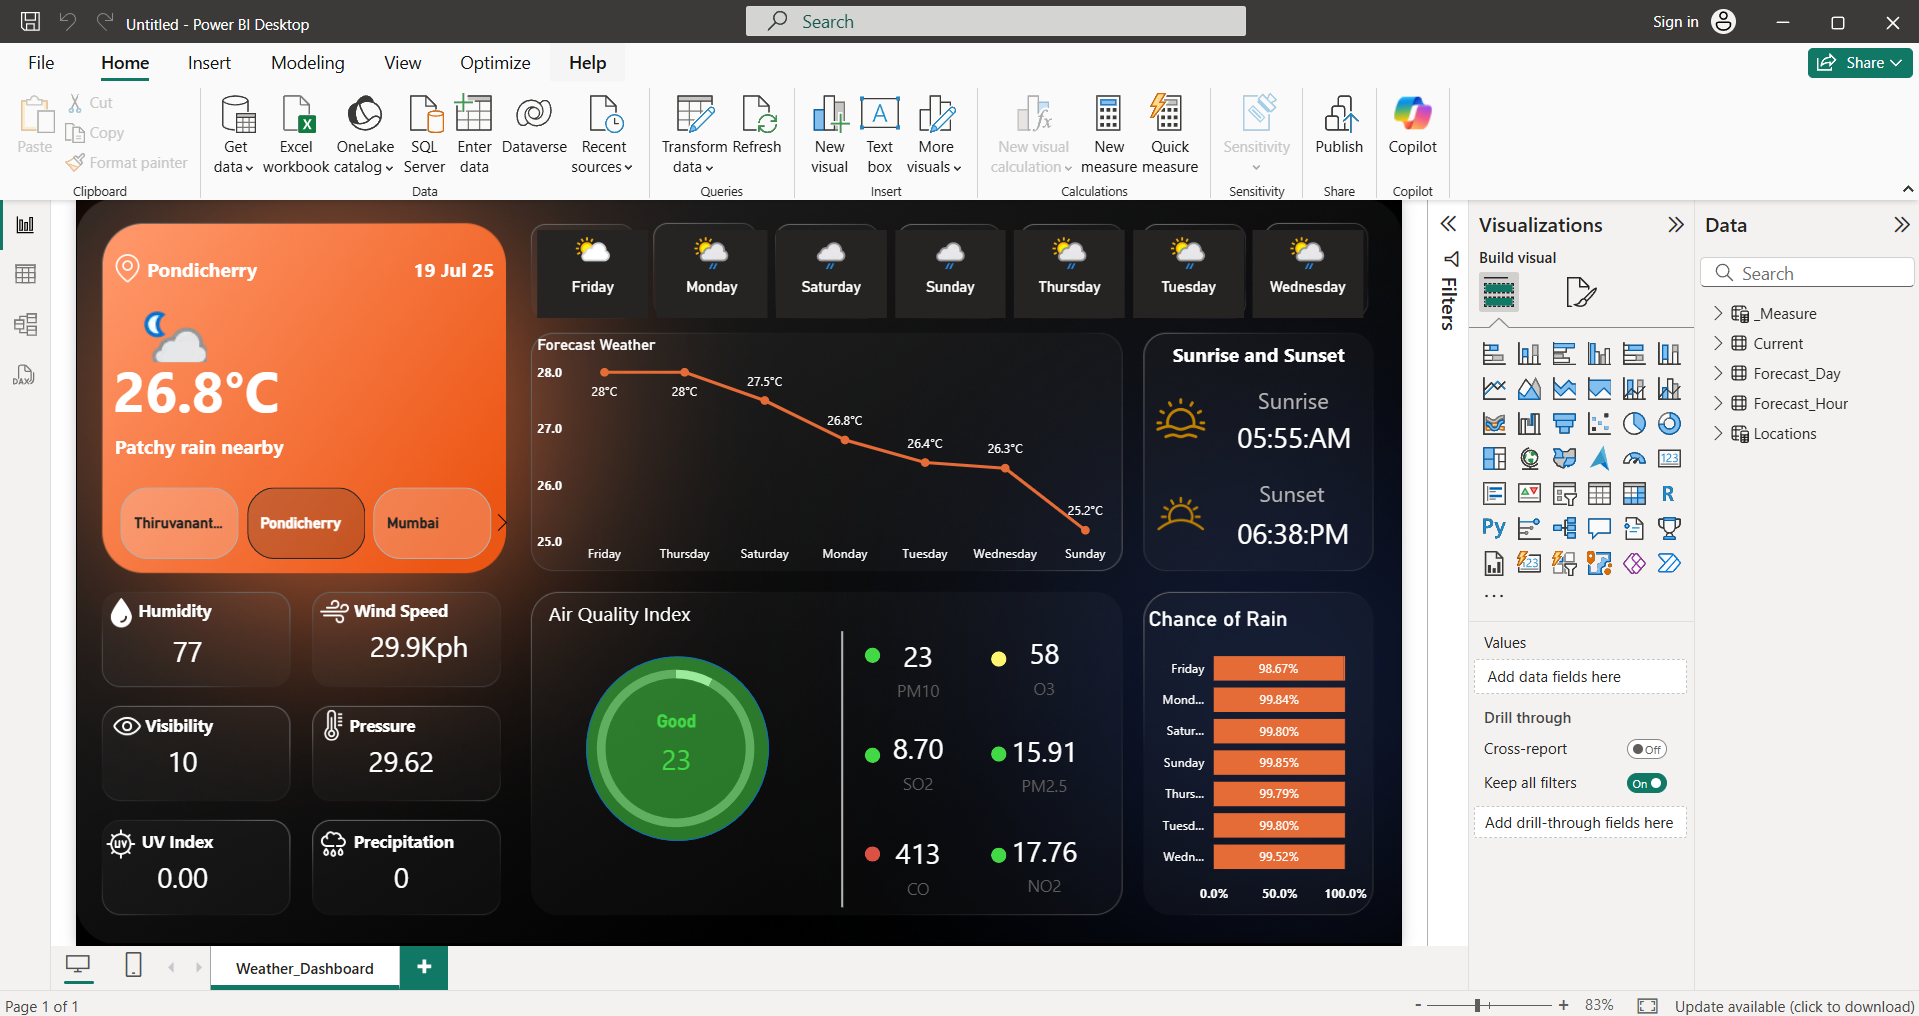

What the dashboard file says about the page in this screenshot:
{"tool":"powerbi","page":{"name":"Weather_Dashboard","canvas":[1280,720],"ordinal":0},"visuals":[{"type":"donutChart","fields":{"Y":["Sum(Current.current.air_quality.pm10)","_Measure.Left_value_PM10"]},"box":[468.3,430,221.7,200],"z":0},{"type":"shape","box":[491.7,440,176.7,178.3],"z":1000},{"type":"advancedSlicerVisual","fields":{"Values":["Locations.location.name"]},"box":[17.9,273.1,408.1,79.7],"z":2000},{"type":"shape","box":[35.8,126.8,190.2,110.6],"z":3000},{"type":"shape","box":[37,217.2,188.1,41.3],"z":4000},{"type":"shape","box":[68.3,45.5,188.6,40.6],"z":5000},{"type":"shape","box":[250.4,45.5,152.8,40.6],"z":6000},{"type":"image","box":[30.9,45.5,37.4,40.6],"z":7000},{"type":"cardVisual","fields":{"Data":["Min(Current.current.condition.icon)"]},"box":[35.8,86.2,95.9,76.4],"z":8000},{"type":"image","box":[24.4,487.7,50.4,40.6],"z":9000},{"type":"image","box":[222.7,601.5,50.4,39],"z":10000},{"type":"image","box":[17.9,601.5,50.4,39],"z":11000},{"type":"image","box":[224.4,377.2,50.4,39],"z":12000},{"type":"image","box":[19.5,378.8,48.8,39],"z":13000},{"type":"image","box":[222.7,487.7,50.4,39],"z":14000},{"type":"textbox","box":[43.9,380.4,104,37.4],"z":15000},{"type":"textbox","box":[248.7,380.4,115.4,37.4],"z":16000},{"type":"textbox","box":[50.4,491,97.5,37.4],"z":17000},{"type":"textbox","box":[250.4,491,89.4,37.4],"z":18000},{"type":"textbox","box":[48.8,603.2,99.2,37.4],"z":19000},{"type":"textbox","box":[263.4,603.2,123.6,37.4],"z":20000},{"type":"card","fields":{"Values":["Sum(Current.current.humidity)"]},"box":[68.3,400,78.3,71.7],"z":21000},{"type":"card","fields":{"Values":["_Measure.Wind_Speed"]},"box":[274.8,399.9,112.2,65],"z":22000},{"type":"card","fields":{"Values":["Sum(Current.current.pressure_in)"]},"box":[274.8,510.5,78,65],"z":23000},{"type":"card","fields":{"Values":["Sum(Current.current.vis_km)"]},"box":[63.4,510.5,78,65],"z":24000},{"type":"card","fields":{"Values":["Sum(Current.current.uv)"]},"box":[63.4,622.7,78,65],"z":25000},{"type":"card","fields":{"Values":["Sum(Current.current.precip_mm)"]},"box":[274.8,622.7,78,65],"z":26000},{"type":"advancedSlicerVisual","fields":{"Values":["Forecast_Day.Day_Name"]},"box":[440.6,24.4,811.3,95.9],"z":27000},{"type":"lineChart","title":"Forecast Weather","fields":{"Y":["Sum(Forecast_Day.forecast.forecastday.day.avgtemp_c)"],"Category":["Forecast_Day.Day_Name"]},"box":[440,131.7,570,228.3],"z":28000},{"type":"textbox","box":[1031.7,131.7,220,50],"z":29000},{"type":"shape","box":[1120.8,209.9,136.3,37.4],"z":30000},{"type":"shape","box":[1120.6,303.3,136.7,36.7],"z":31000},{"type":"textbox","box":[1120.6,173.3,108.3,53.3],"z":32000},{"type":"textbox","box":[1078.9,263.3,190,58.3],"z":33000},{"type":"image","box":[1031.7,268.3,70,70],"z":34000},{"type":"image","box":[1031.7,181.7,70,56.7],"z":35000},{"type":"textbox","box":[451.7,381.7,220,50],"z":36000},{"type":"card","fields":{"Values":["Sum(Current.current.air_quality.pm10)"]},"box":[761.7,416.7,103.3,71.7],"z":37000},{"type":"card","fields":{"Values":["Sum(Current.current.air_quality.pm2_5)"]},"box":[883.3,505,103.3,76.7],"z":38000},{"type":"card","fields":{"Values":["Sum(Current.current.air_quality.no2)"]},"box":[883.3,601.7,103.3,76.7],"z":39000},{"type":"card","fields":{"Values":["Sum(Current.current.air_quality.o3)"]},"box":[883.3,411.7,103.3,76.7],"z":40000},{"type":"card","fields":{"Values":["Sum(Current.current.air_quality.so2)"]},"box":[761.1,505,103.3,71.7],"z":41000},{"type":"card","fields":{"Values":["Sum(Current.current.air_quality.co)"]},"box":[761.1,606.7,103.3,71.7],"z":42000},{"type":"shape","box":[761.1,431.7,15,15],"z":43000},{"type":"shape","box":[761.1,623.3,15,15],"z":44000},{"type":"shape","box":[761.1,528.3,15,15],"z":45000},{"type":"shape","box":[883.3,435,15,15],"z":46000},{"type":"shape","box":[883.3,526.7,15,15],"z":47000},{"type":"shape","box":[883.3,625,15,15],"z":48000},{"type":"shape","box":[718.3,416.7,43.3,266.7],"z":49000},{"type":"card","fields":{"Values":["Sum(Current.current.air_quality.pm10)"]},"box":[518.3,491.7,121.7,78.3],"z":50000},{"type":"hundredPercentStackedBarChart","title":"Chance of Rain","fields":{"Category":["Forecast_Day.Day_Name"],"Y":["Sum(Forecast_Hour.forecast.forecastday.hour.chance_of_rain)","_Measure.Left_value_Rain"]},"box":[1030.3,392.1,220.8,295.6],"z":51000}]}

Visuals, with their boxes on the page's 1280x720 design canvas (x1, y1, x2, y2). These are canvas units, not pixel positions in the 1919x1016 screenshot, which may show the page scaled, cropped or inside an application window:
donutChart - Sum(Current.current.air_quality.pm10) x _Measure.Left_value_PM10: 468, 430, 690, 630
shape: 492, 440, 668, 618
advancedSlicerVisual - Locations.location.name: 18, 273, 426, 353
shape: 36, 127, 226, 237
shape: 37, 217, 225, 258
shape: 68, 46, 257, 86
shape: 250, 46, 403, 86
image: 31, 46, 68, 86
cardVisual - Min(Current.current.condition.icon): 36, 86, 132, 163
image: 24, 488, 75, 528
image: 223, 602, 273, 640
image: 18, 602, 68, 640
image: 224, 377, 275, 416
image: 20, 379, 68, 418
image: 223, 488, 273, 527
textbox: 44, 380, 148, 418
textbox: 249, 380, 364, 418
textbox: 50, 491, 148, 528
textbox: 250, 491, 340, 528
textbox: 49, 603, 148, 641
textbox: 263, 603, 387, 641
card - Sum(Current.current.humidity): 68, 400, 147, 472
card - _Measure.Wind_Speed: 275, 400, 387, 465
card - Sum(Current.current.pressure_in): 275, 510, 353, 576
card - Sum(Current.current.vis_km): 63, 510, 141, 576
card - Sum(Current.current.uv): 63, 623, 141, 688
card - Sum(Current.current.precip_mm): 275, 623, 353, 688
advancedSlicerVisual - Forecast_Day.Day_Name: 441, 24, 1252, 120
"Forecast Weather" lineChart: 440, 132, 1010, 360
textbox: 1032, 132, 1252, 182
shape: 1121, 210, 1257, 247
shape: 1121, 303, 1257, 340
textbox: 1121, 173, 1229, 227
textbox: 1079, 263, 1269, 322
image: 1032, 268, 1102, 338
image: 1032, 182, 1102, 238
textbox: 452, 382, 672, 432
card - Sum(Current.current.air_quality.pm10): 762, 417, 865, 488
card - Sum(Current.current.air_quality.pm2_5): 883, 505, 987, 582
card - Sum(Current.current.air_quality.no2): 883, 602, 987, 678
card - Sum(Current.current.air_quality.o3): 883, 412, 987, 488
card - Sum(Current.current.air_quality.so2): 761, 505, 864, 577
card - Sum(Current.current.air_quality.co): 761, 607, 864, 678
shape: 761, 432, 776, 447
shape: 761, 623, 776, 638
shape: 761, 528, 776, 543
shape: 883, 435, 898, 450
shape: 883, 527, 898, 542
shape: 883, 625, 898, 640
shape: 718, 417, 762, 683
card - Sum(Current.current.air_quality.pm10): 518, 492, 640, 570
"Chance of Rain" hundredPercentStackedBarChart: 1030, 392, 1251, 688
